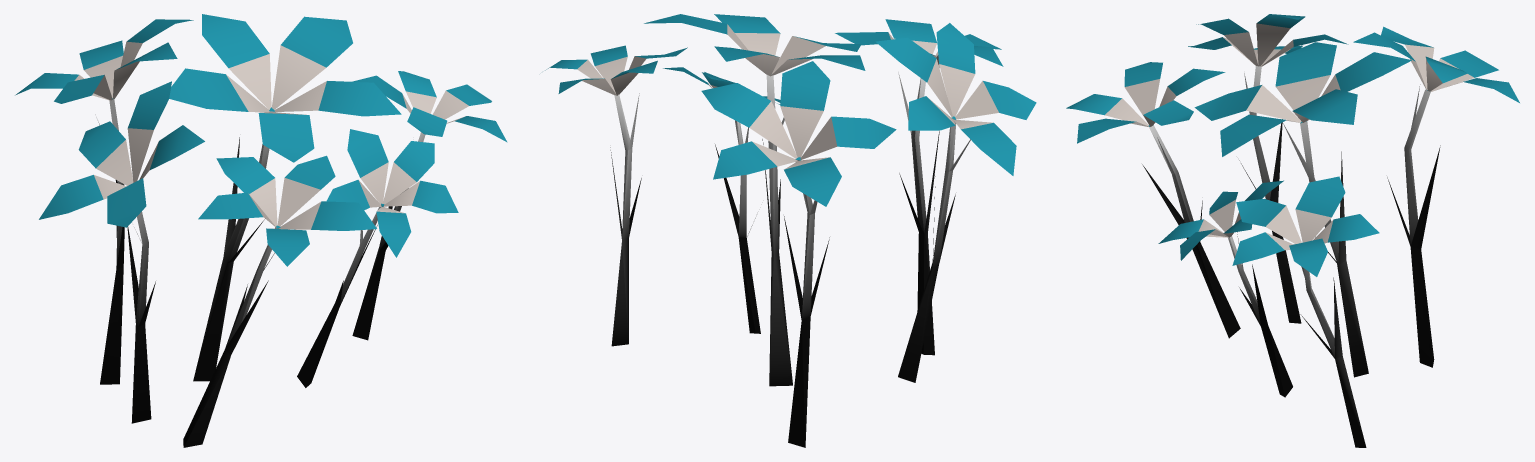
The model's file is Sm_Plumeria_2.FBX.
The picture shows the model from 3 angles, left to right: view 1: azimuth 30°, elevation 25°; view 2: azimuth 150°, elevation 25°; view 3: azimuth 270°, elevation 25°; orthographic projection. The views are drawn at different scales.
Parts seen in each view (by area): view 1: Sm_Plumeria_2; view 2: Sm_Plumeria_2; view 3: Sm_Plumeria_2.
Part boxes in pixels (<box>): Sm_Plumeria_2: <box>15,14,507,447</box>; Sm_Plumeria_2: <box>545,14,1036,447</box>; Sm_Plumeria_2: <box>1066,14,1519,447</box>.
Size of the model in its own units: 85.83 by 75.73 by 62.81.
